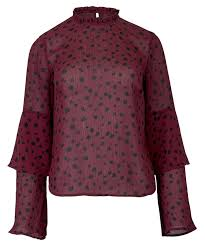C_blouse: (7, 11, 194, 236)
